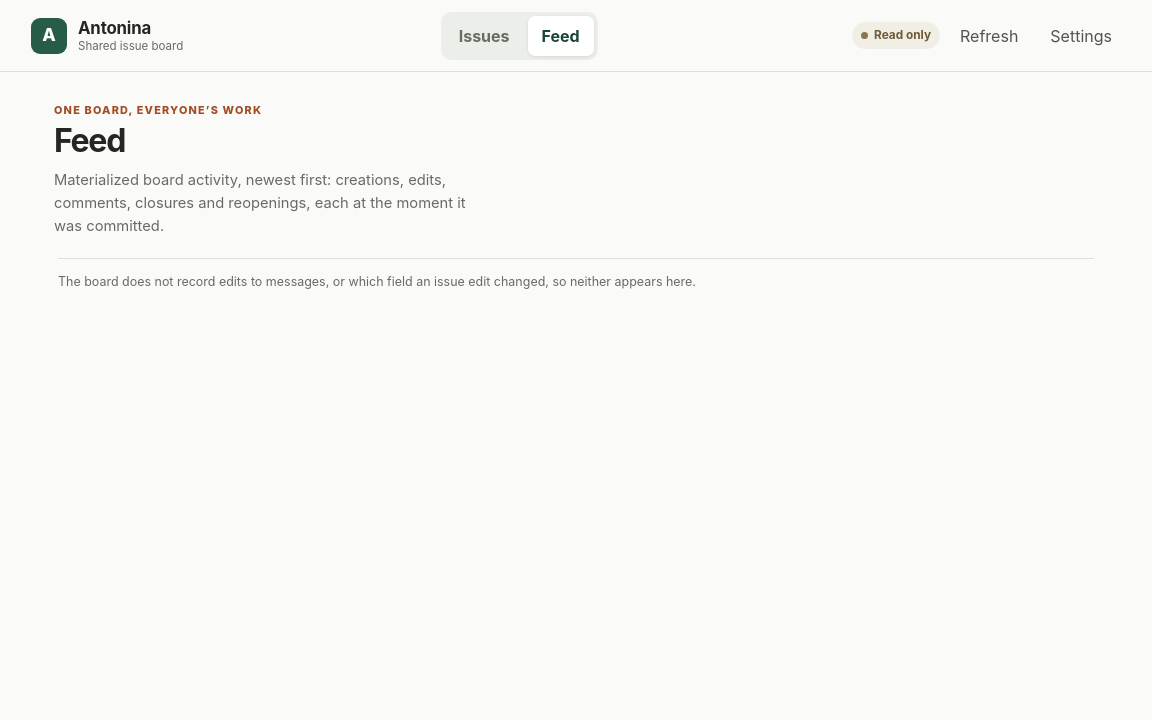
Test case: the board addressed by URL, mounted › opens each tab directly from its URL
Click the button "issues".
click(484, 36)  # box [459,26,510,46]
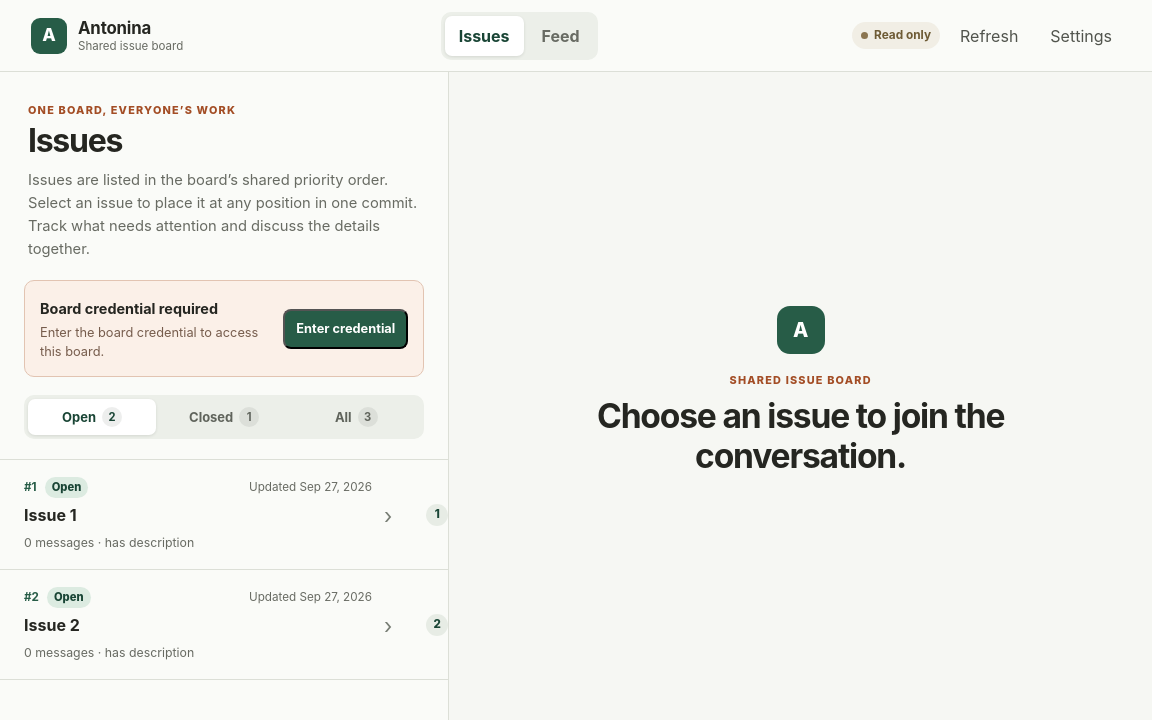
expect the element named "Shared issue list" is shown: met, box [0,72,449,719]
